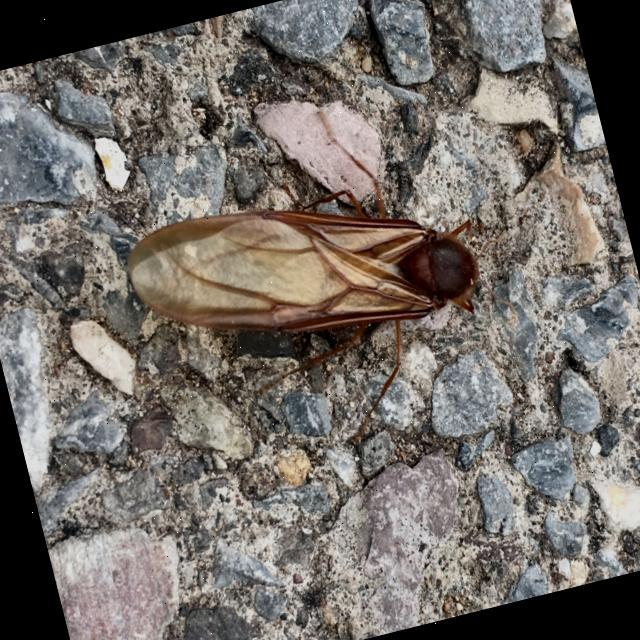Alive-Male-Alate: (100, 72, 550, 490)
